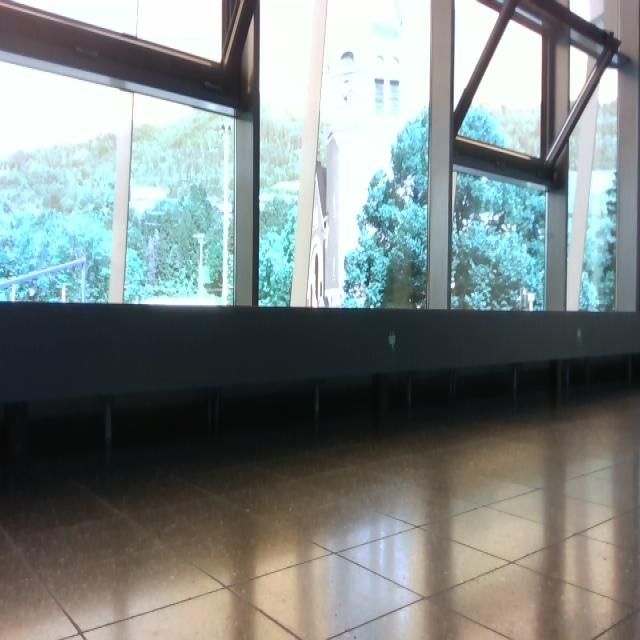light bulb: (597, 67, 619, 107), (373, 54, 386, 116), (340, 51, 355, 103), (388, 56, 401, 116), (527, 292, 536, 312), (28, 288, 36, 298)
tiled floor: (2, 387, 639, 639)
window: (1, 1, 639, 316)
